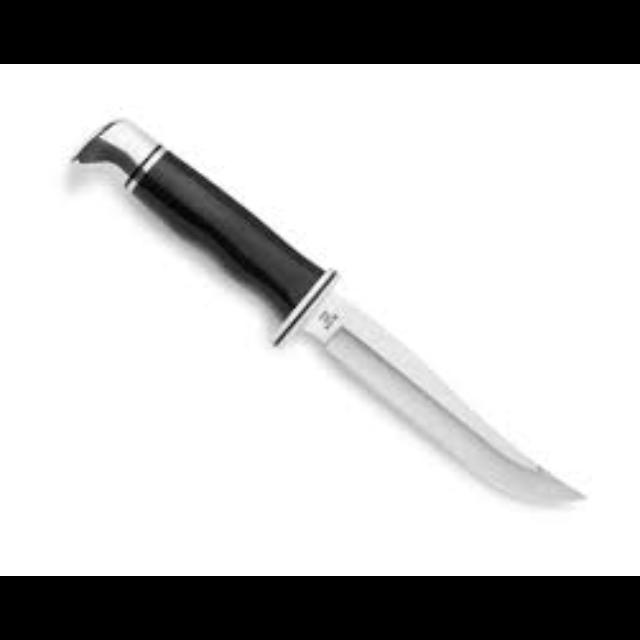Knife: (69, 115, 586, 507)
